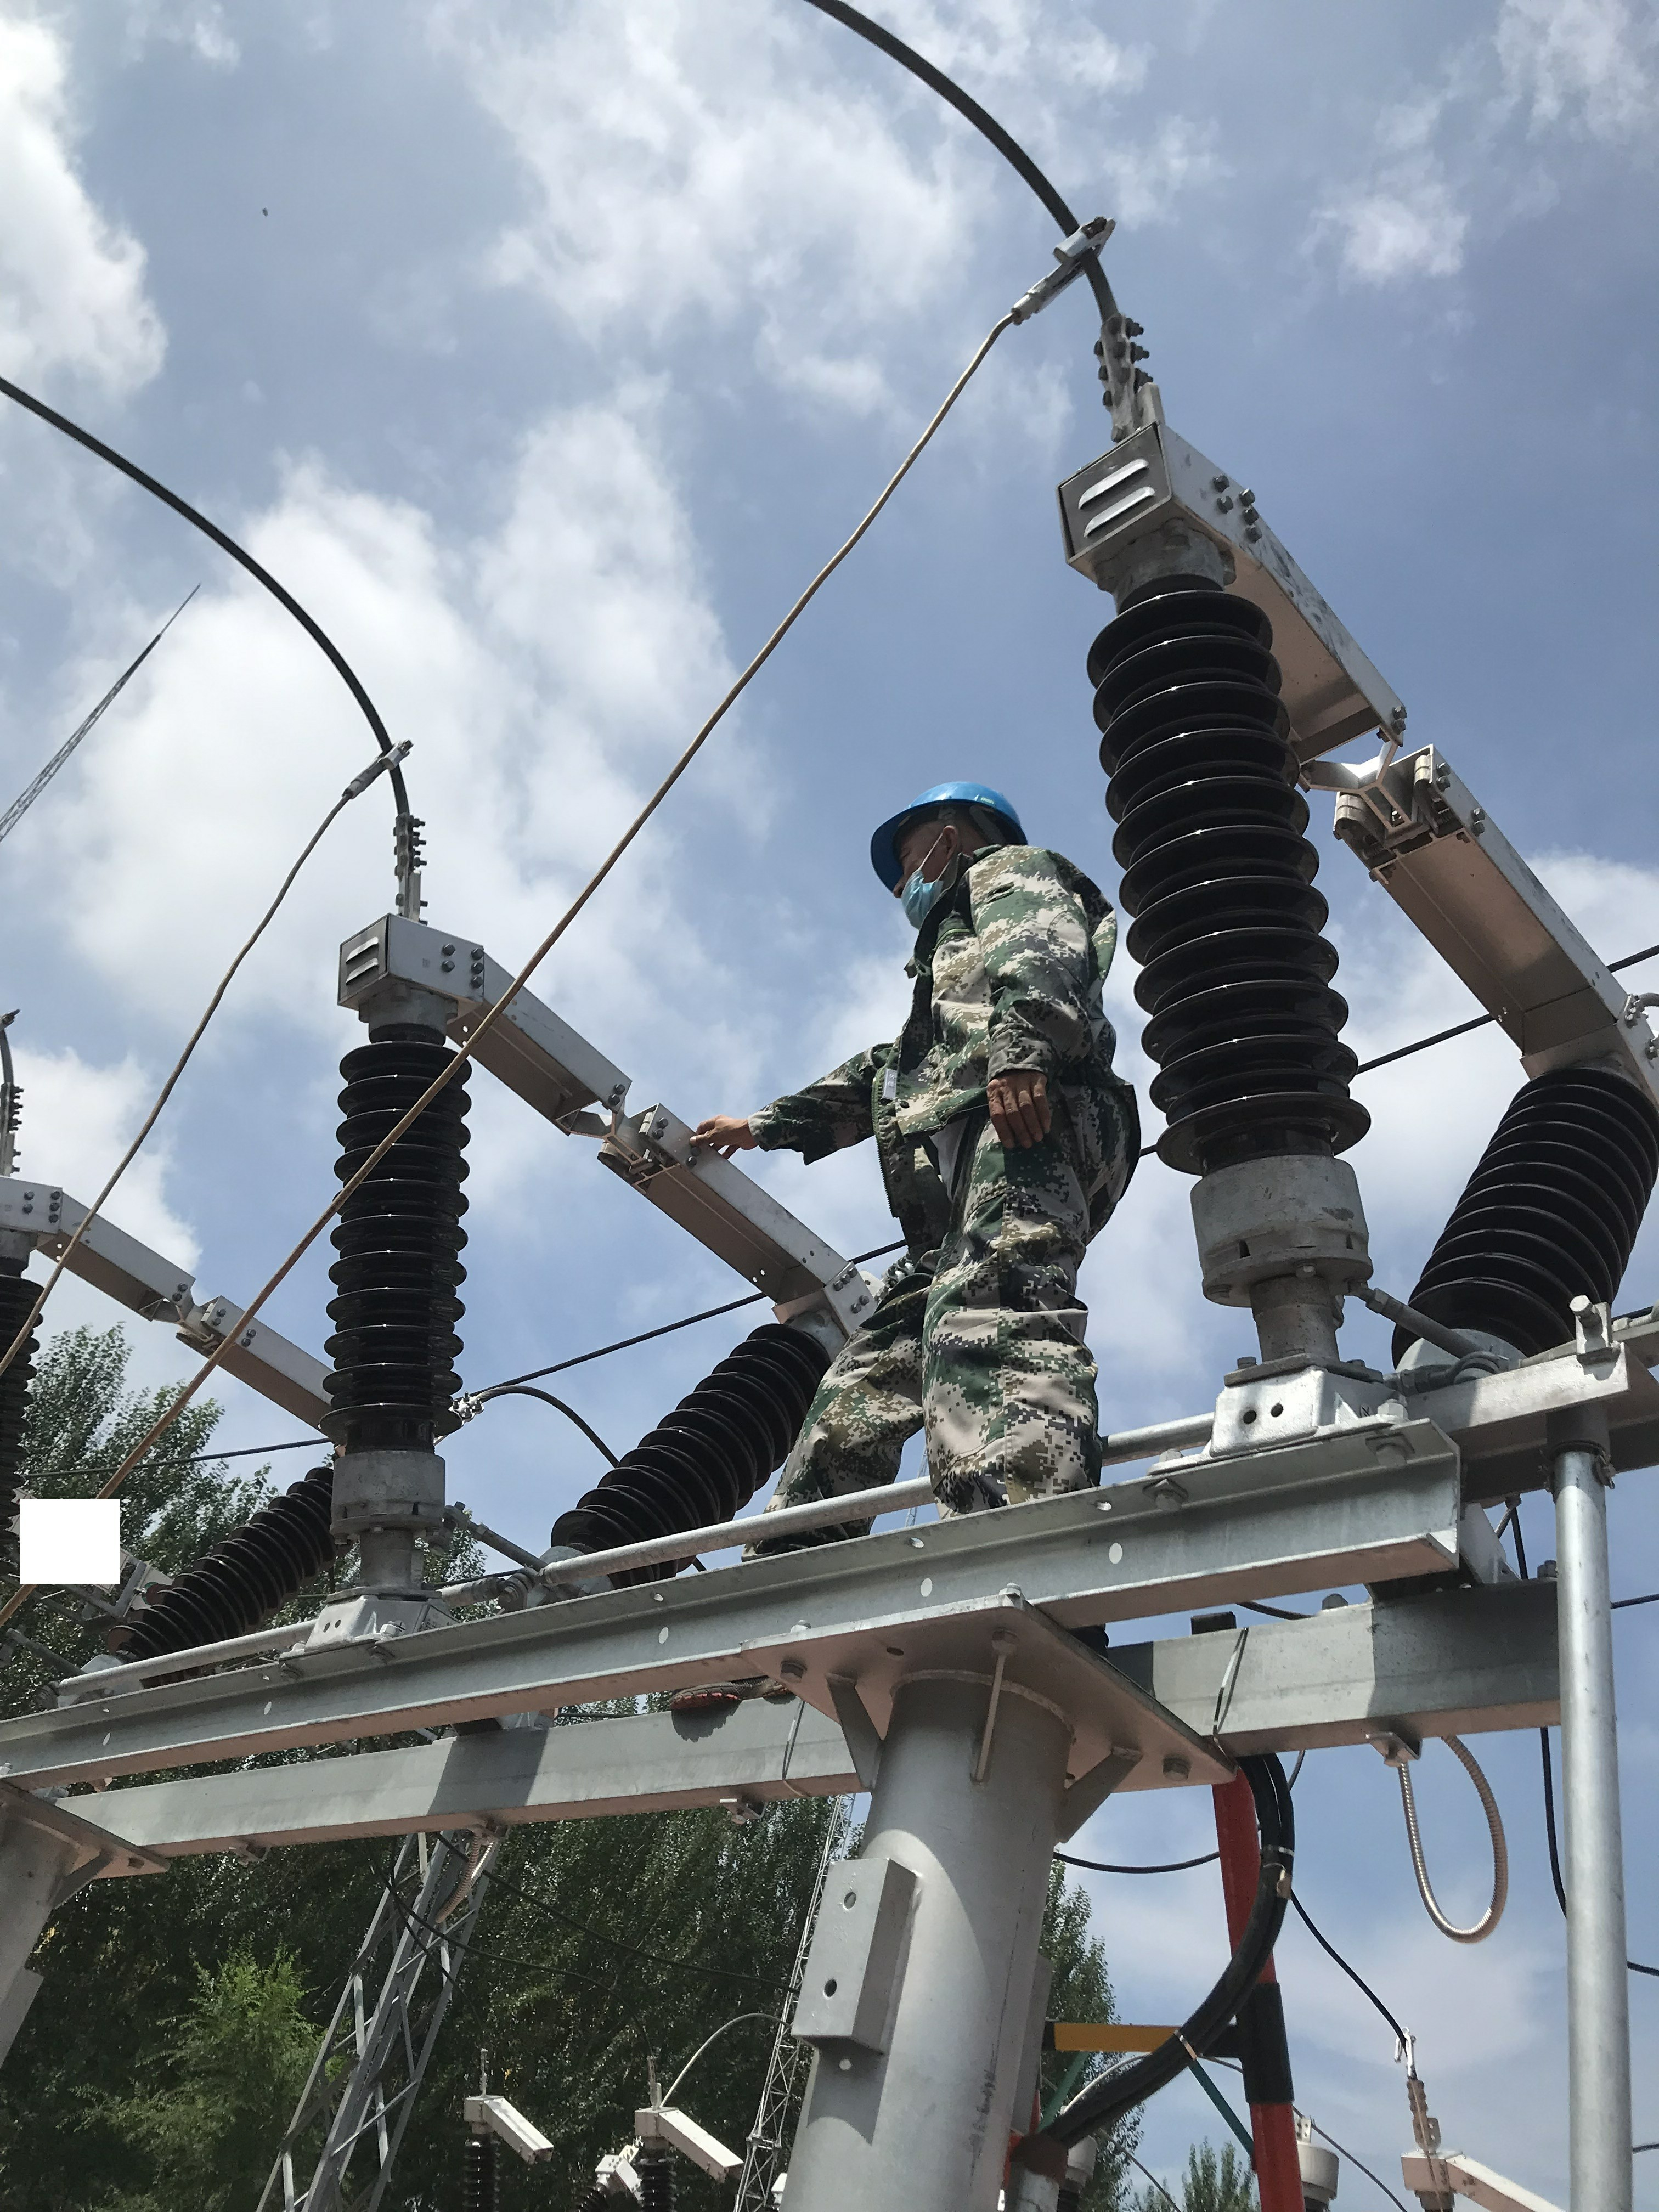hat: (868, 773, 1023, 928)
